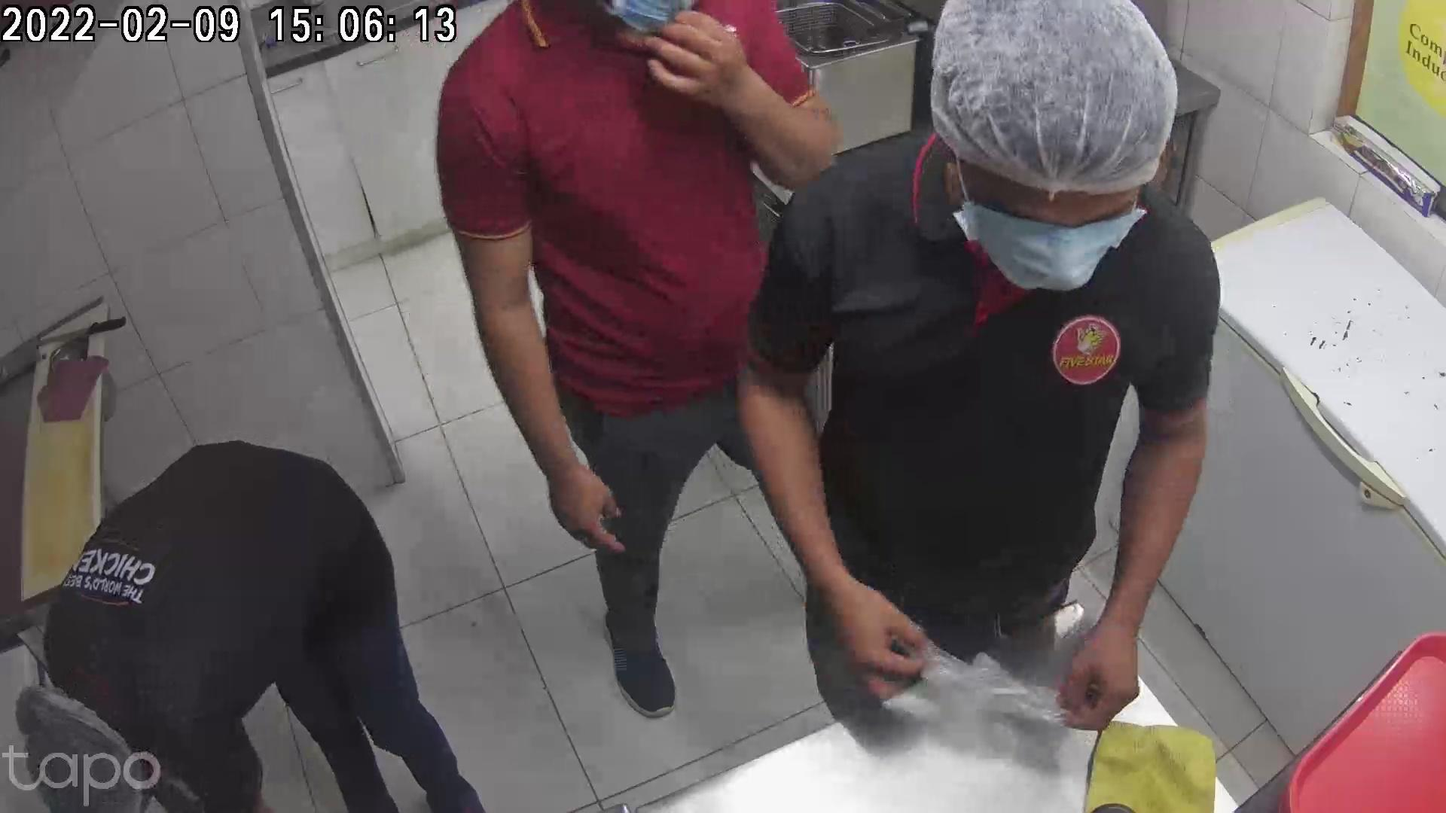no_gloves: (647, 11, 761, 112), (537, 444, 623, 557)
